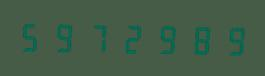eight: (182, 20, 214, 57)
five: (17, 17, 49, 54)
nine: (50, 18, 82, 55), (215, 21, 247, 58), (149, 20, 181, 56)
seven: (83, 19, 115, 55)
two: (116, 19, 148, 56)
